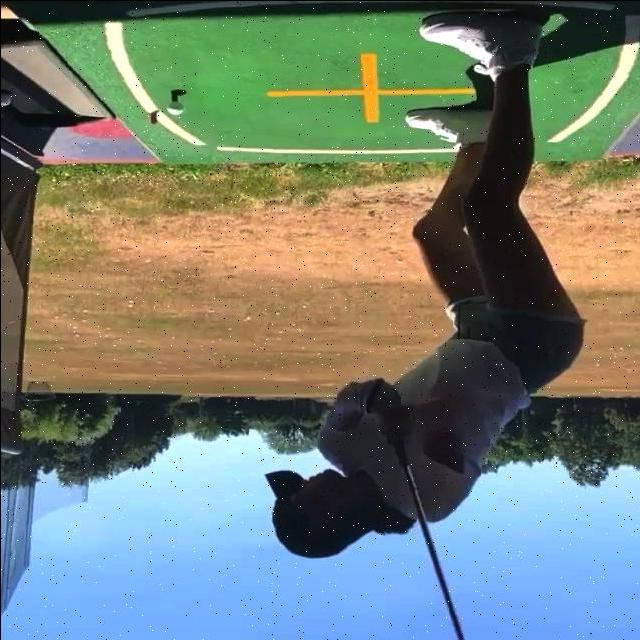ClubHandle: (382, 446, 468, 640)
GolfBall: (165, 100, 188, 116), (0, 96, 18, 110)
